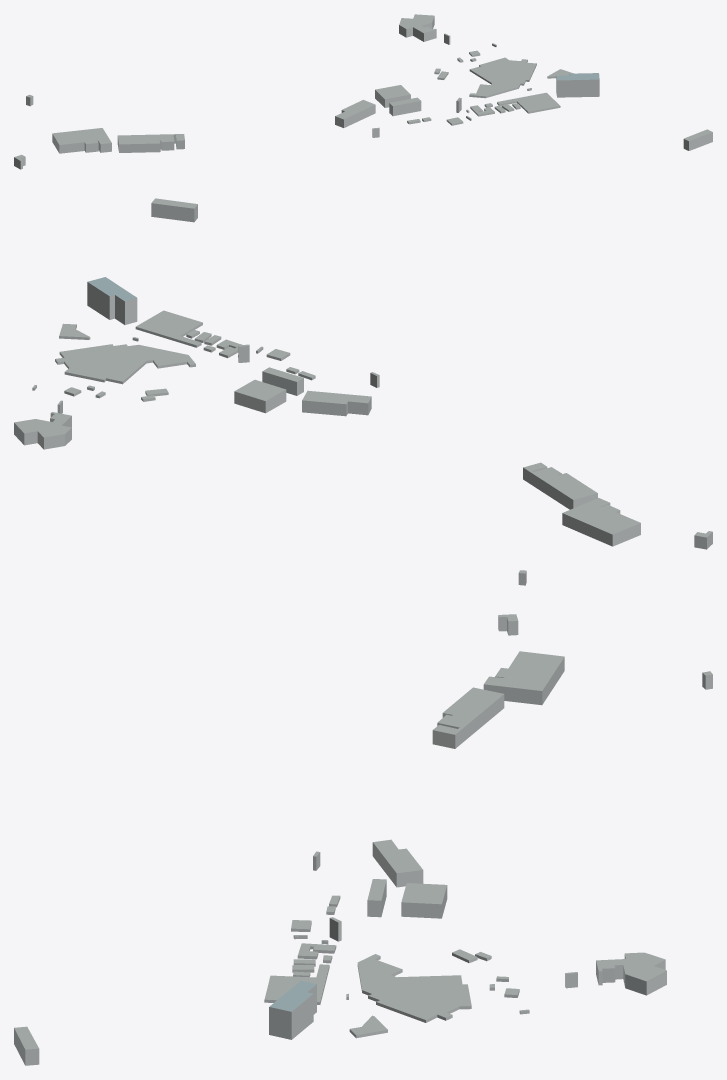
The model's file is far.glb.
3 renders of one model, top to bottom at view 1: azimuth 30°, elevation 25°; view 2: azimuth 150°, elevation 25°; view 3: azimuth 270°, elevation 25°, orthographic. The views are drawn at different scales.
Size of the model in its own units: 794 by 23.76 by 536.
